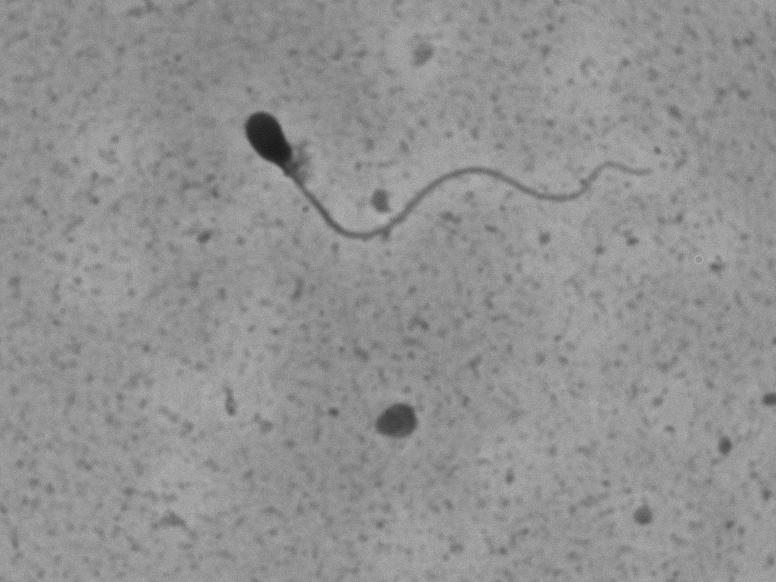Abnormal: (204, 51, 668, 306)
